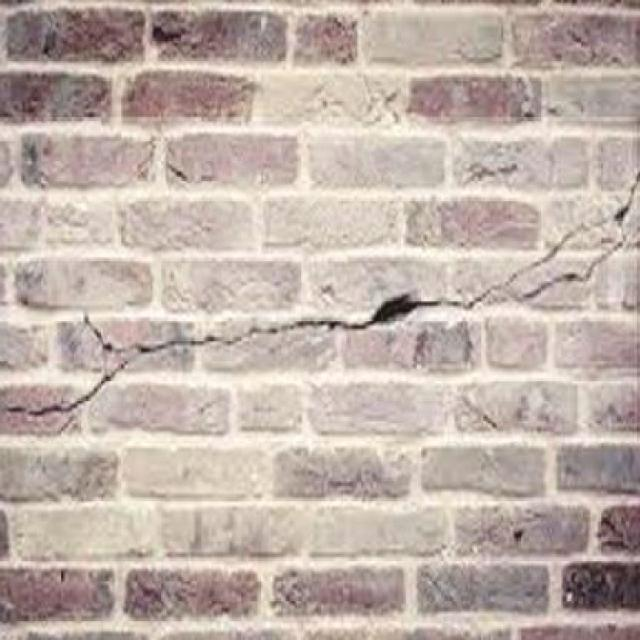SurfaceCrack: (12, 166, 640, 450)
